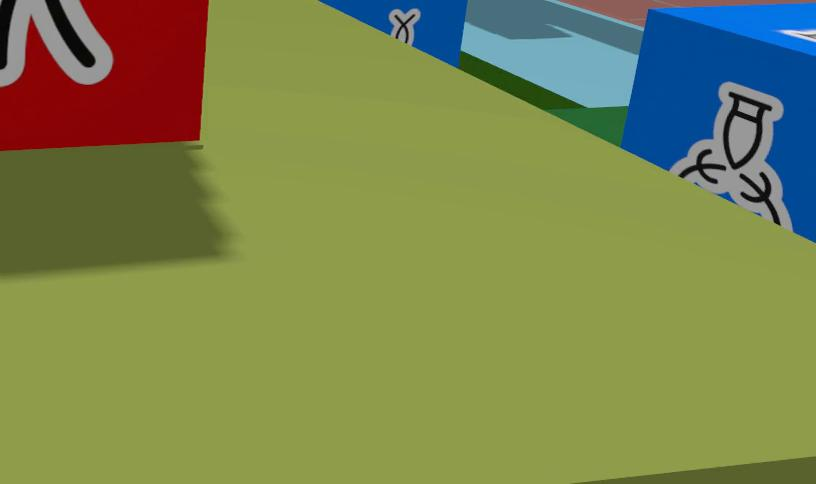KFS_FAKE: (0, 0, 208, 151), (0, 0, 112, 87)
KFS_REAL: (621, 2, 815, 240), (671, 82, 792, 230), (318, 0, 465, 65), (389, 11, 420, 45)
